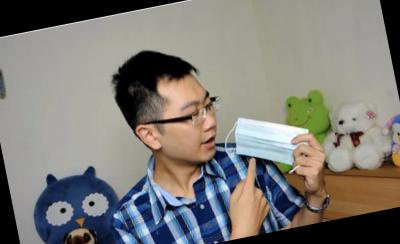without_mask: (154, 87, 225, 171)
